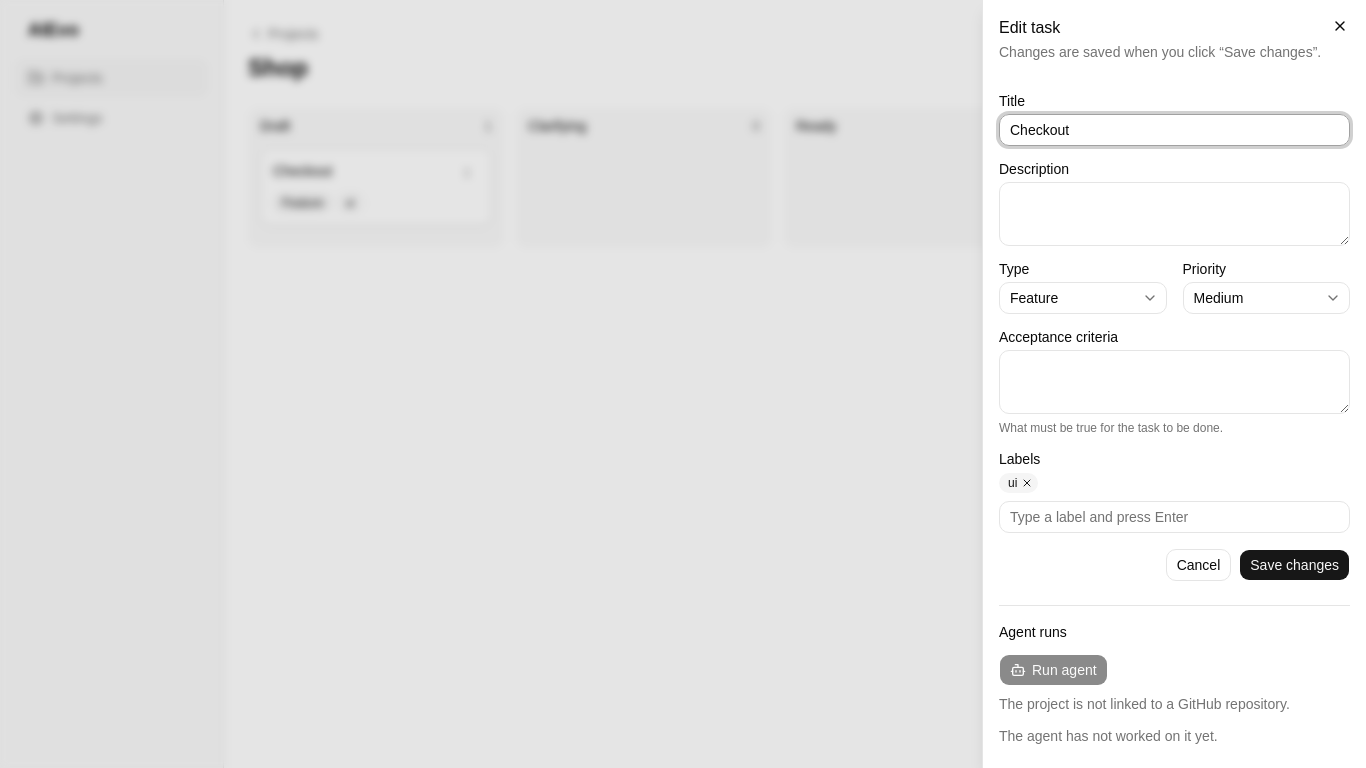
Test: TaskSheet › sends all labels removed as an empty list
Click the button named "Remove label ui" at (1027, 483), box [1021,477,1033,489]
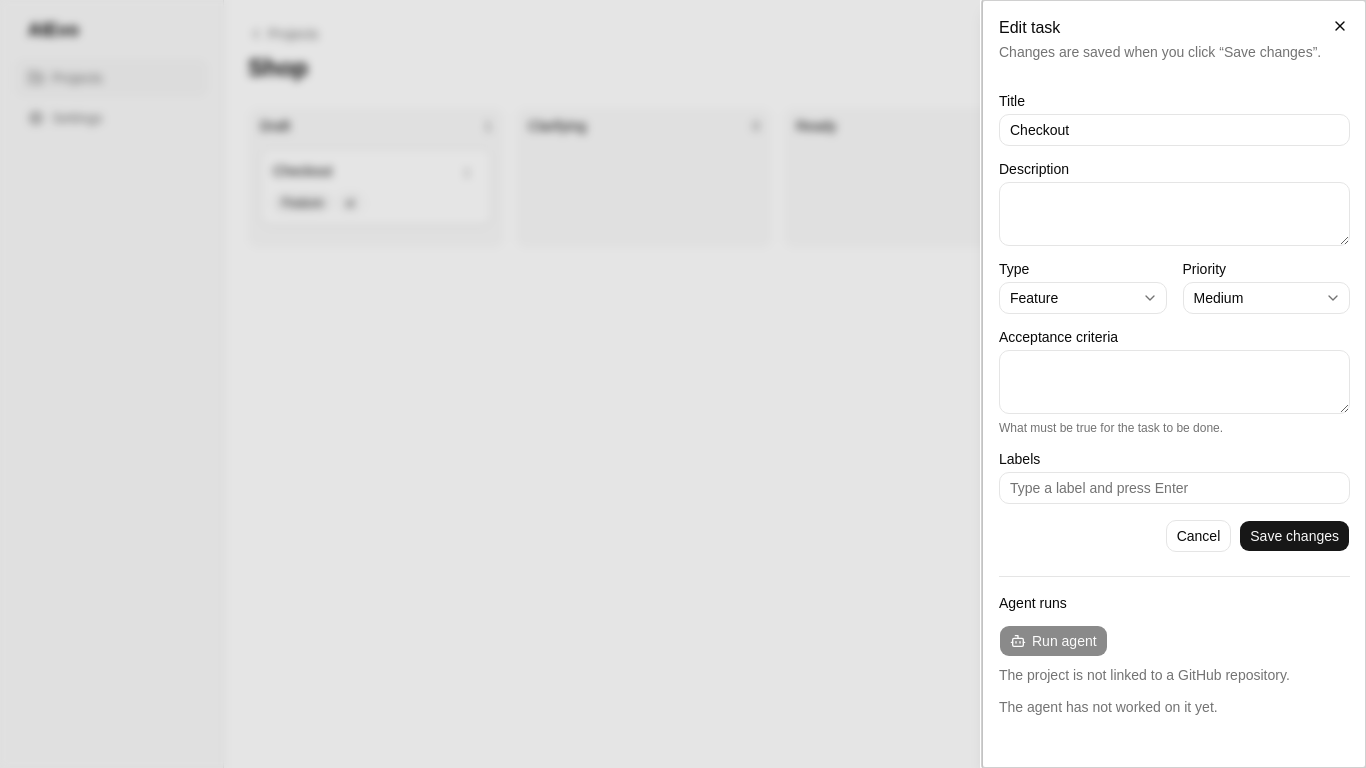
Click the button "Save changes" at (1295, 536), box [1239,520,1350,552]
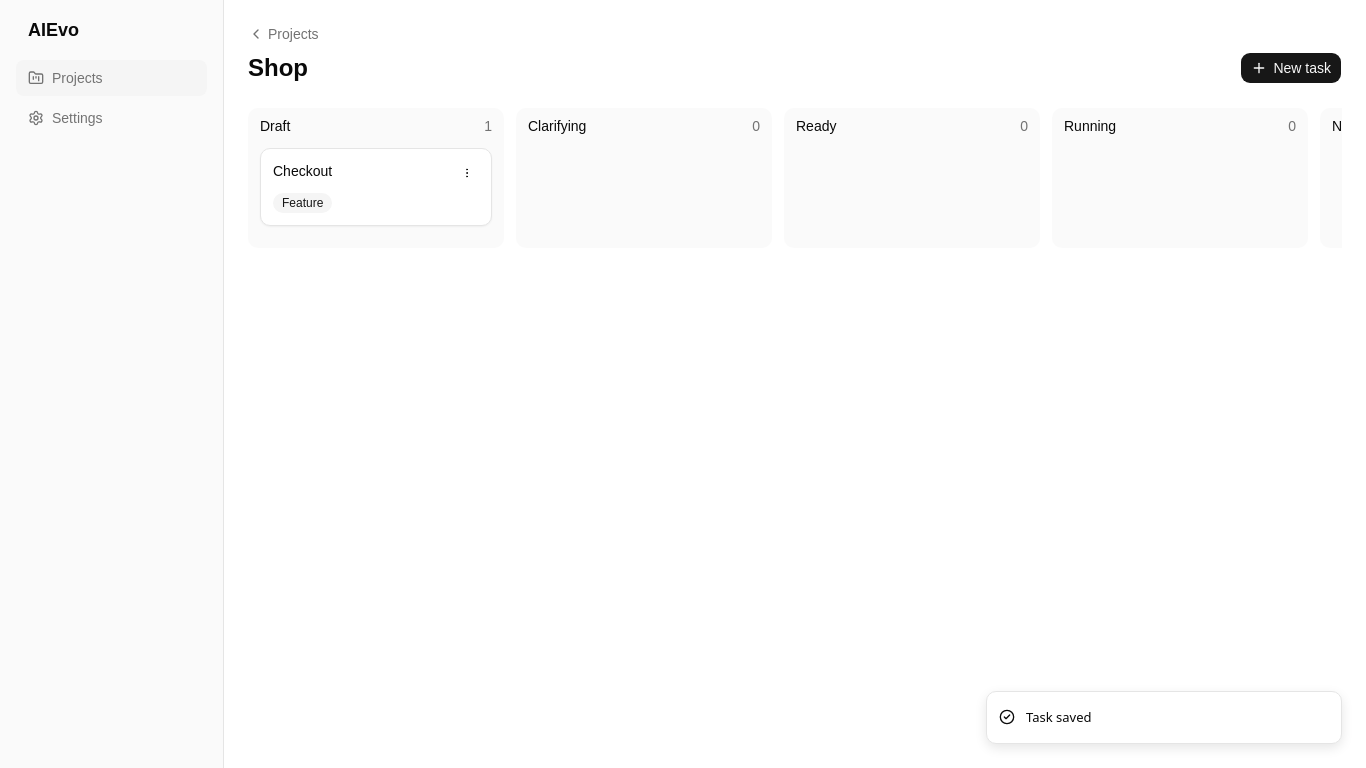
Expected: the dialog is gone
